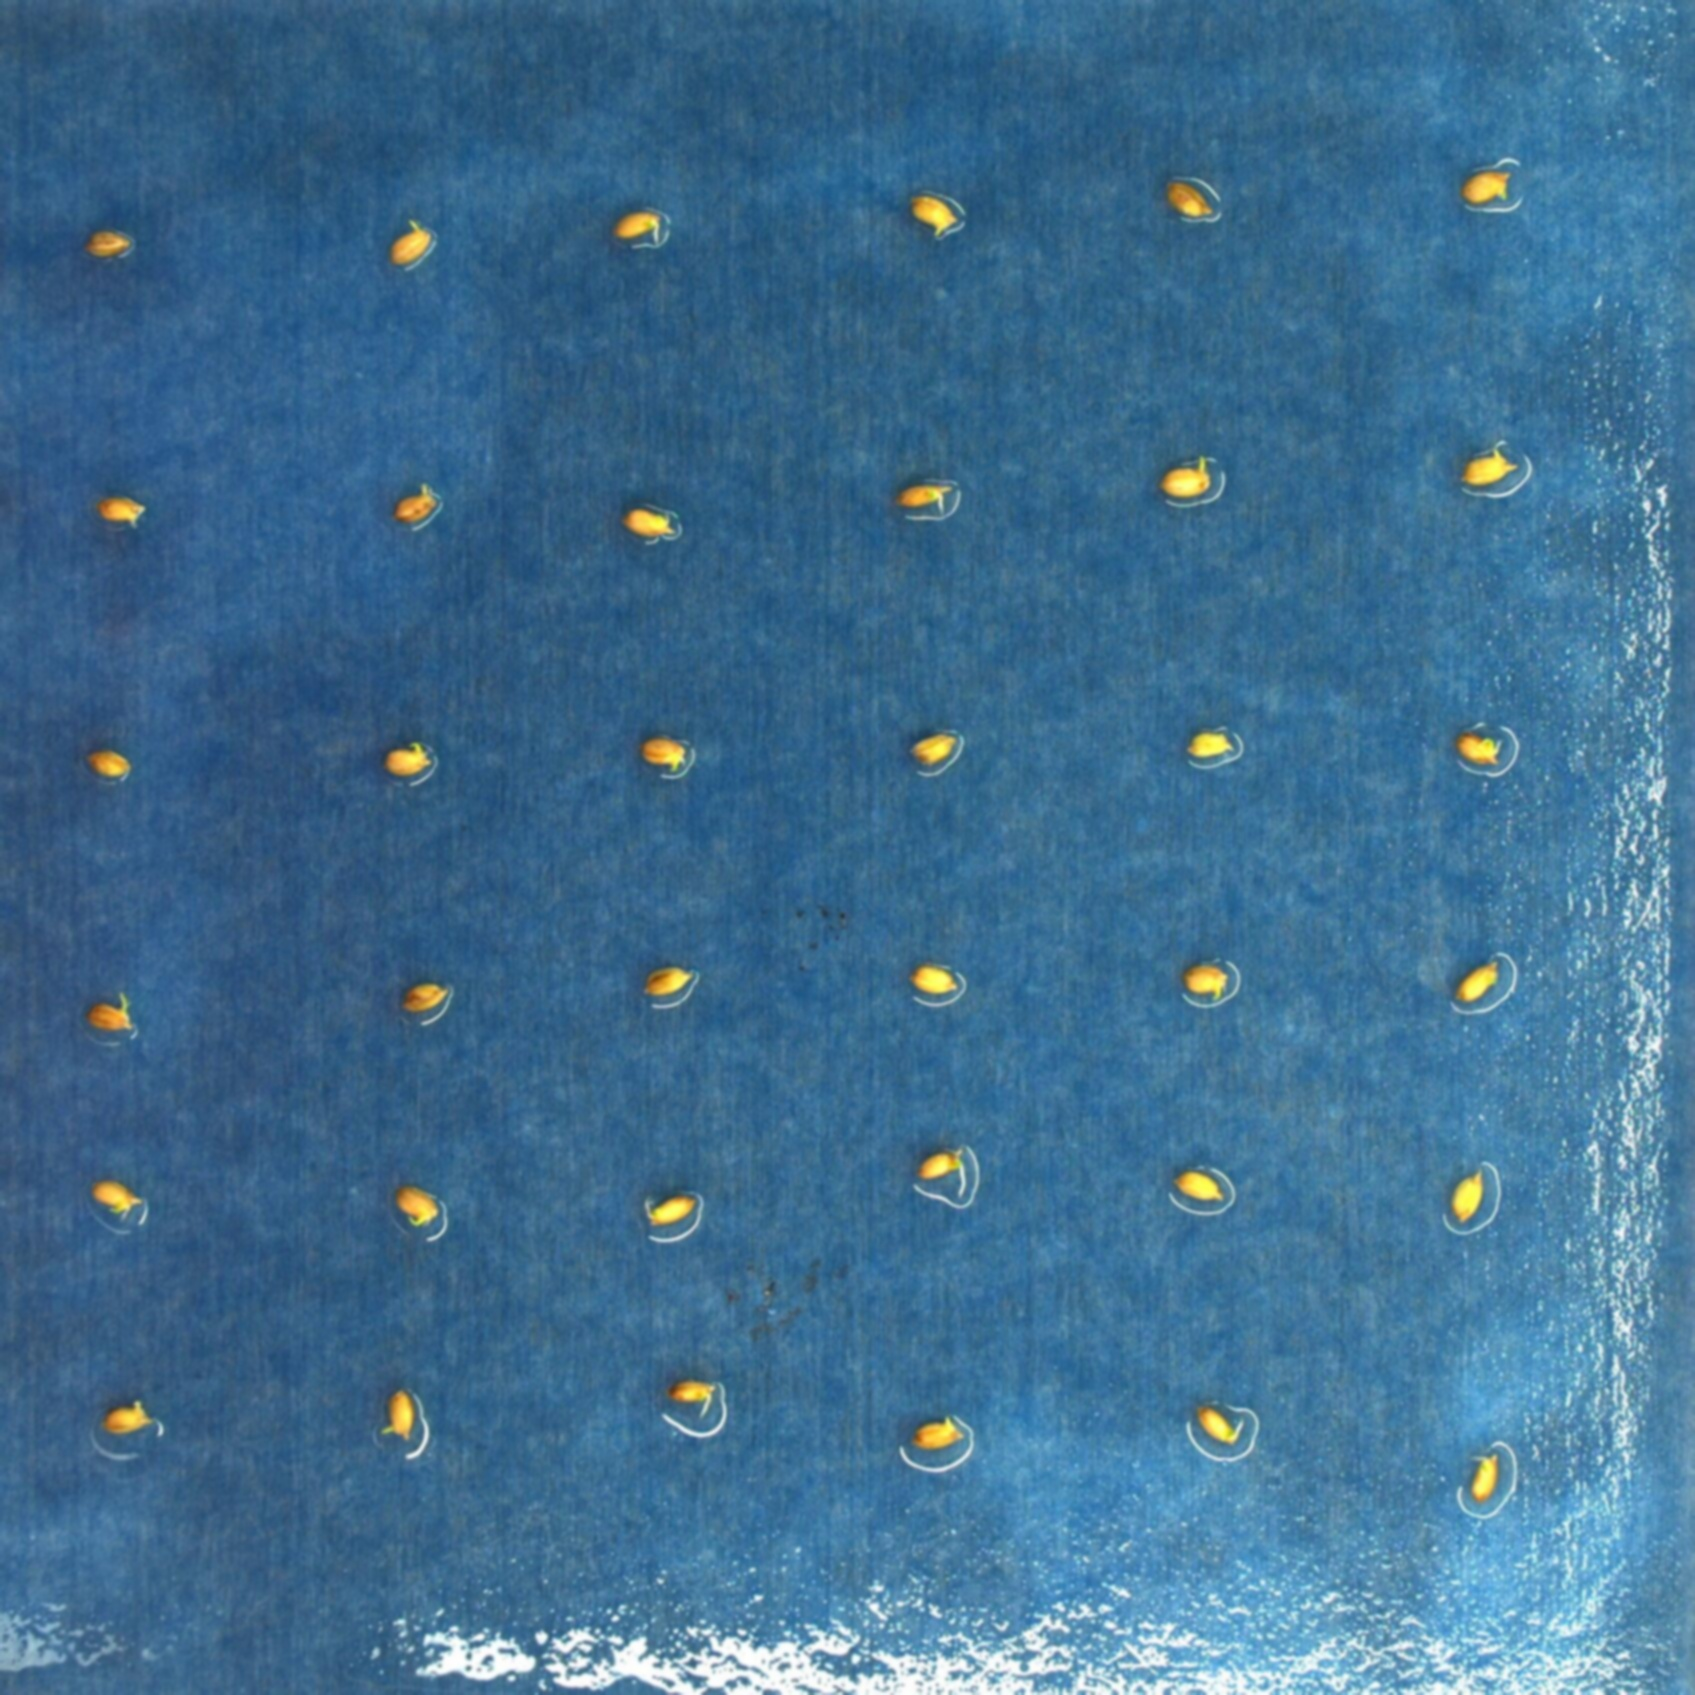not sprout: (1451, 427, 1532, 490), (646, 1391, 730, 1444), (917, 1142, 989, 1201), (1445, 1166, 1510, 1229), (1458, 951, 1516, 1021), (619, 486, 702, 536), (893, 478, 973, 528), (638, 1183, 709, 1237), (1458, 160, 1524, 216), (383, 220, 449, 275), (1461, 1451, 1526, 1506), (81, 986, 135, 1048), (910, 189, 967, 247), (382, 730, 439, 787), (383, 1392, 439, 1450), (897, 723, 962, 771), (81, 744, 144, 792), (633, 961, 698, 1007), (1159, 453, 1220, 503), (386, 1178, 447, 1226), (1454, 730, 1520, 773), (84, 1180, 151, 1222), (101, 1405, 166, 1447), (1189, 1403, 1246, 1450), (911, 951, 964, 1001), (1170, 1161, 1226, 1208), (635, 730, 689, 775), (919, 1417, 976, 1459), (1158, 180, 1209, 225), (607, 203, 660, 247), (1180, 722, 1236, 762), (397, 976, 442, 1023), (81, 227, 130, 269), (96, 490, 144, 529), (393, 487, 438, 528), (1184, 961, 1232, 998)
